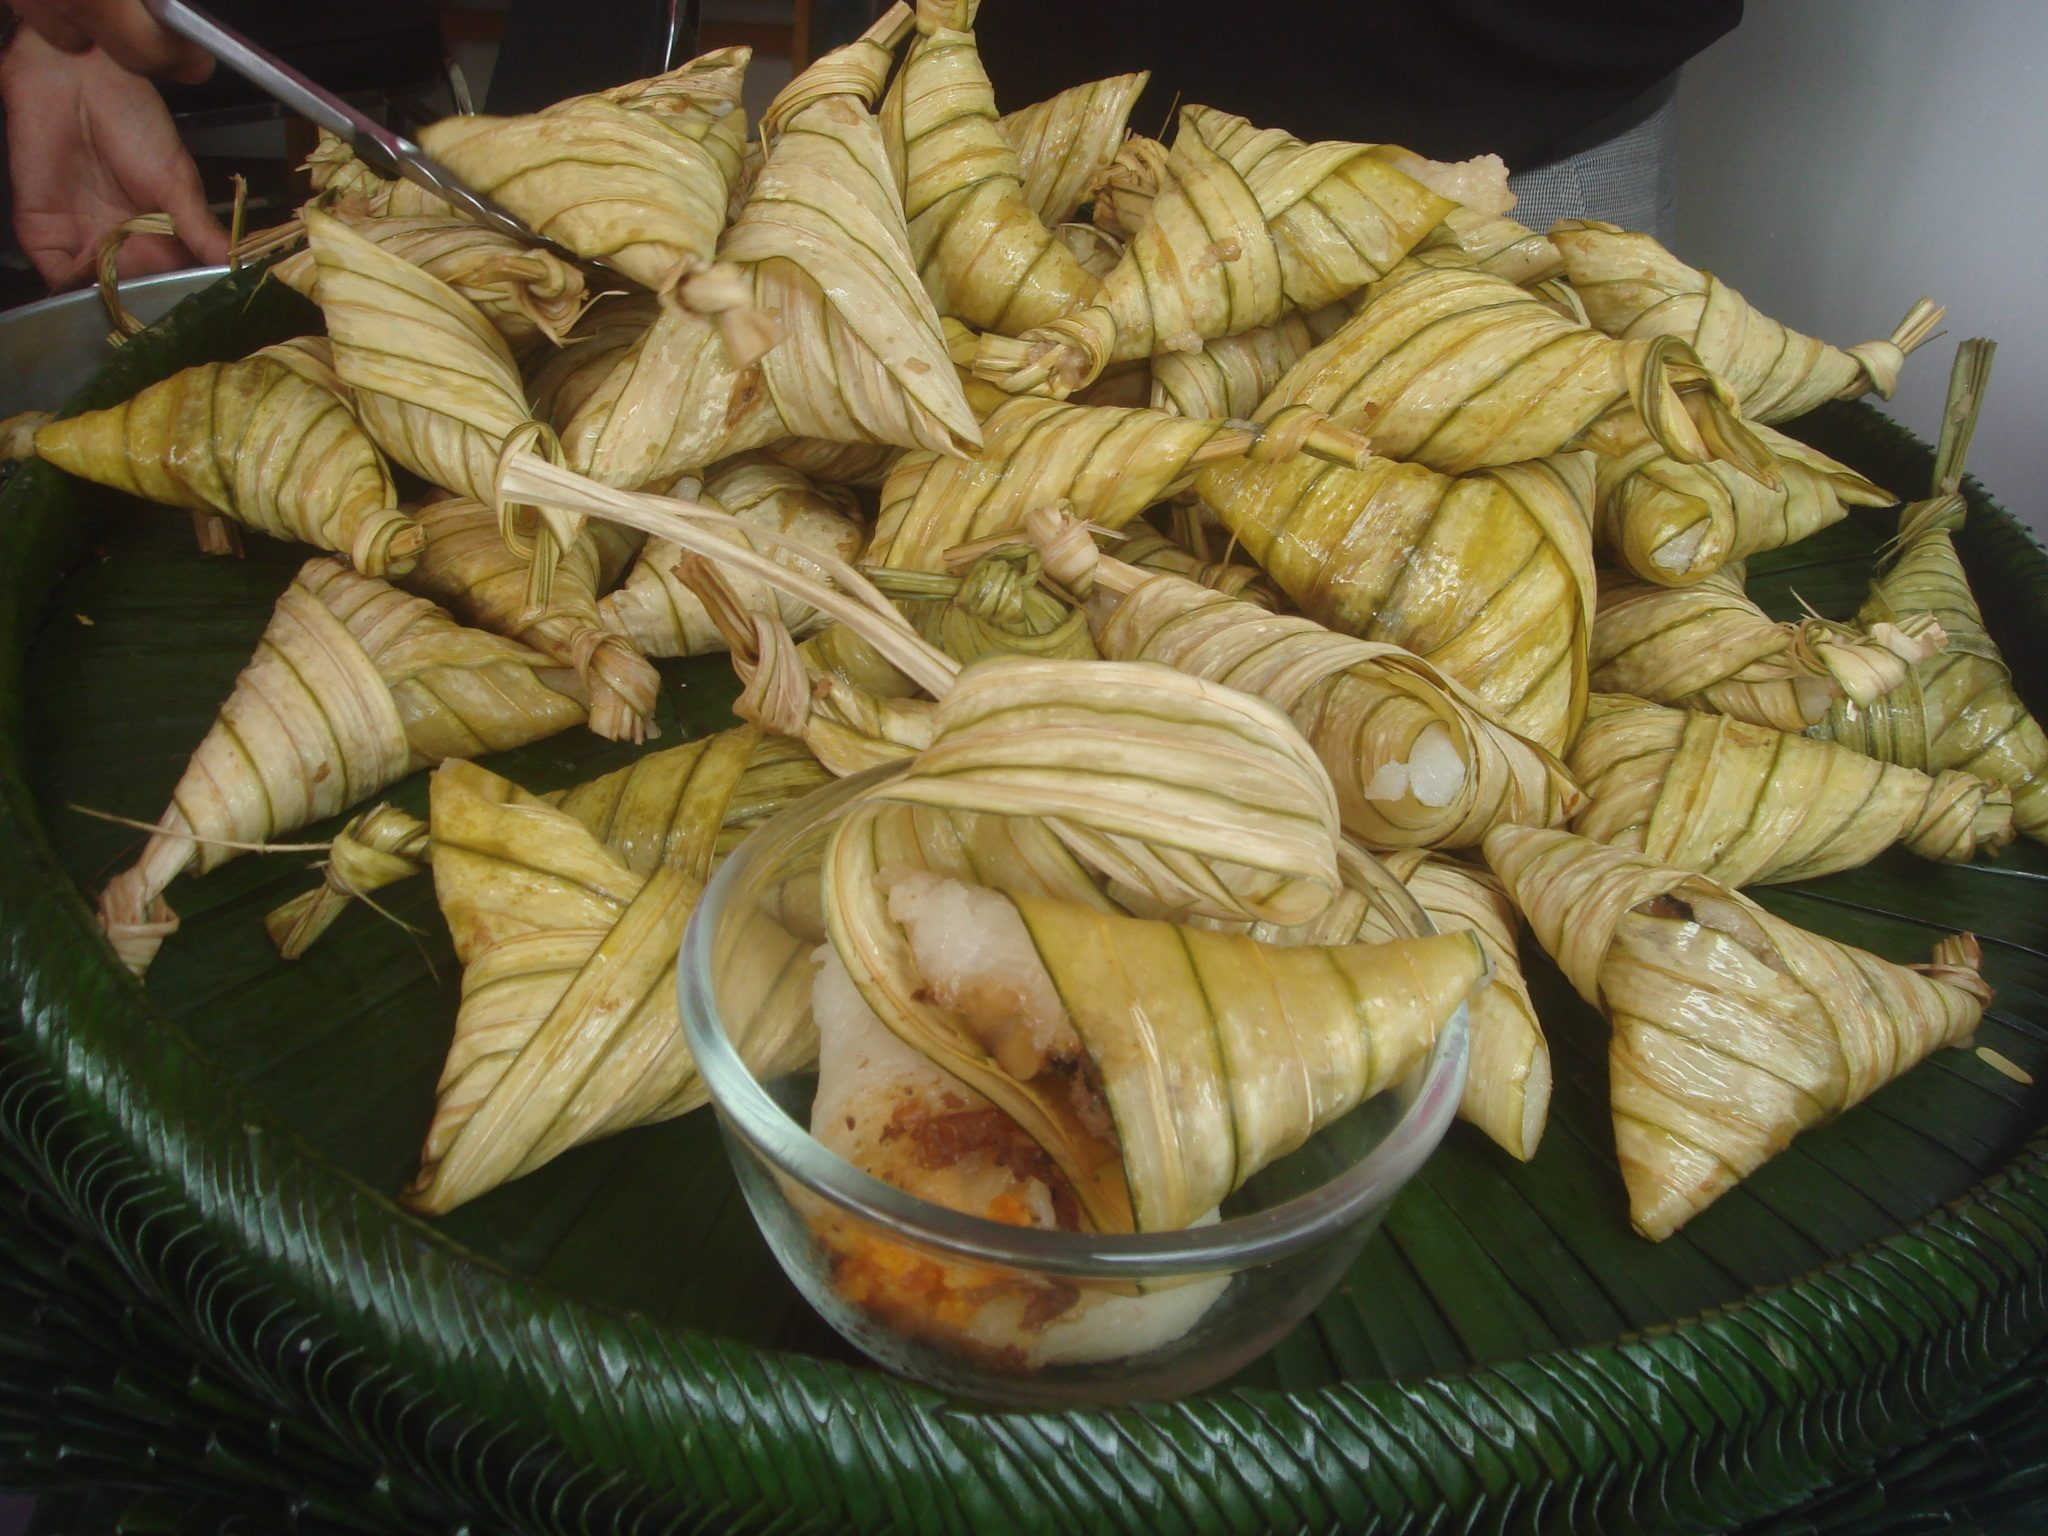kanomtom: (369, 699, 895, 1229), (558, 16, 1027, 544), (106, 528, 710, 923), (1500, 807, 2001, 1271), (1179, 386, 1630, 799), (24, 284, 481, 621), (1746, 374, 2048, 826)
